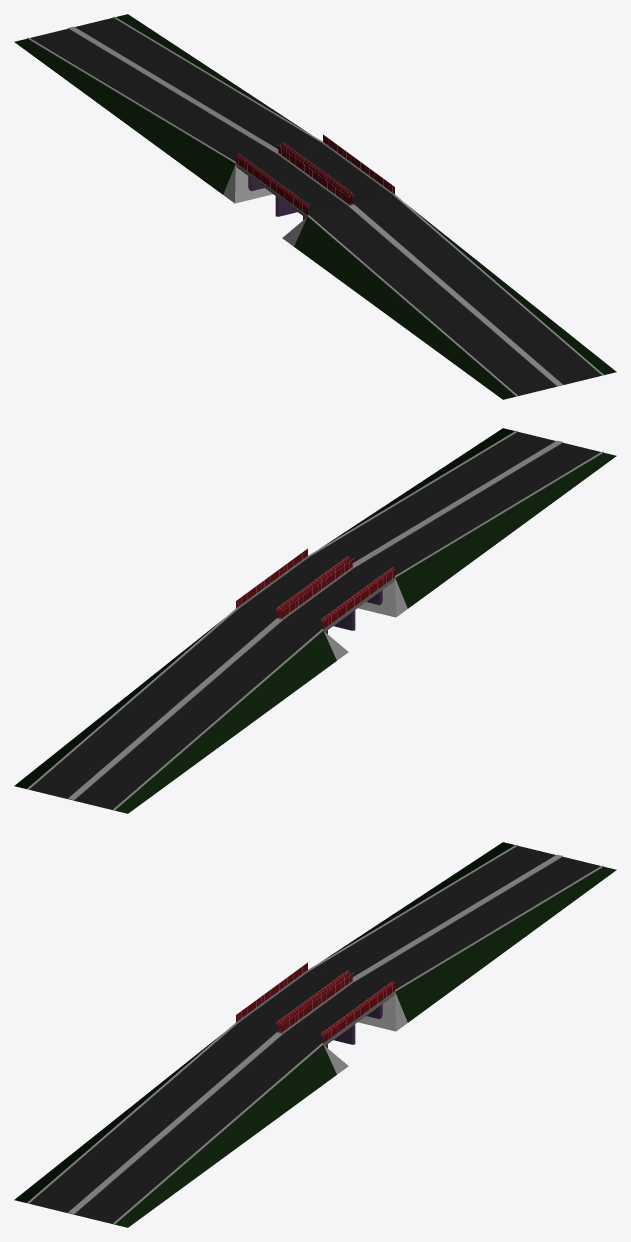
The model's file is highway_bridge_1_50m.obj.
3 renders of one model, top to bottom at view 1: azimuth 30°, elevation 25°; view 2: azimuth 150°, elevation 25°; view 3: azimuth 330°, elevation 25°, orthographic.
Visible parts, largest first — view 1: Plane.001, Plane, Plane.002_Plane; view 2: Plane.001, Plane, Plane.002_Plane; view 3: Plane.001, Plane.002_Plane, Plane.
Part boxes in pixels (x1,y1,x2,y2): Plane.001: (14,14,616,399); Plane: (235,144,350,217); Plane.002_Plane: (280,133,394,205); Plane.001: (14,428,616,813); Plane: (280,558,395,631); Plane.002_Plane: (236,547,350,619); Plane.001: (14,842,616,1227); Plane.002_Plane: (280,972,395,1045); Plane: (236,961,350,1033).
Bounding box in the file's own units: 45.74 × 14.5 × 340.
